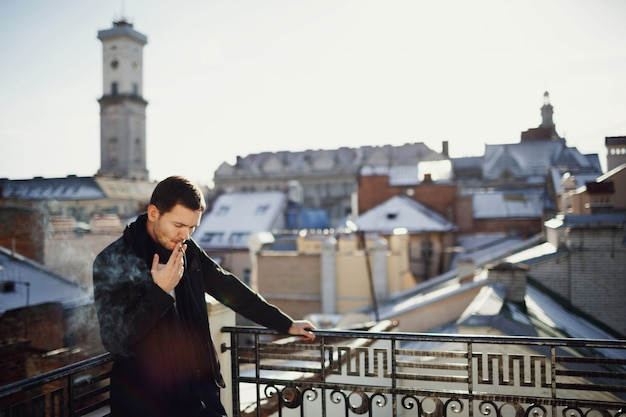cigarette: (177, 242, 187, 256)
